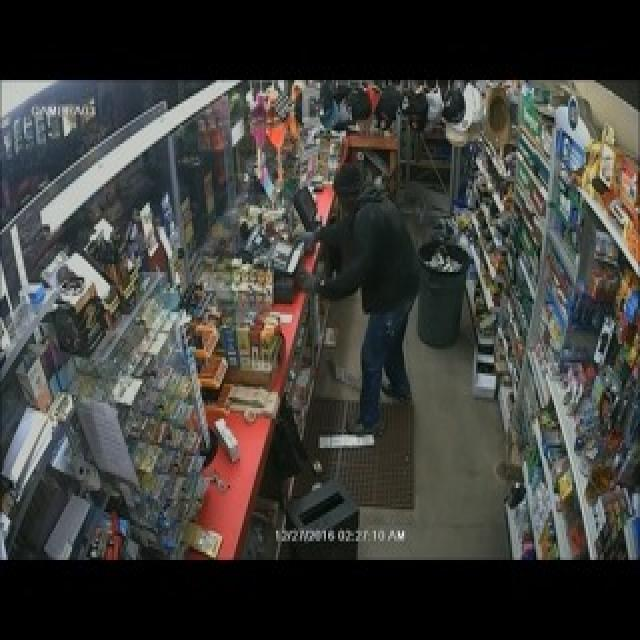thief: (322, 148, 428, 396)
